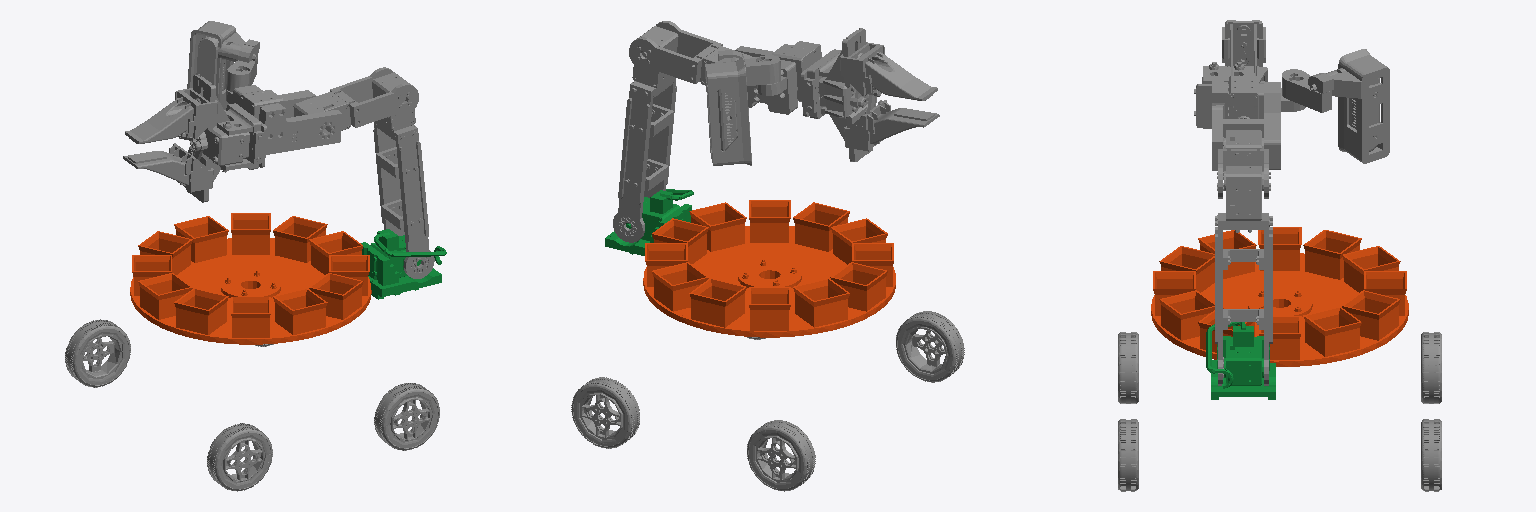
URDF robot description (v307_full_robot):
<?xml version="1.0"?>
<!-- v307_full_robot: make_urdf_usd.py가 생성(V303 통합본 + 상단 D435 실측 43.6도). SI 단위. -->
<robot name="v307_full_robot">
  <link name="base_link">
    <inertial><origin xyz="0.0251904968 -0.00410348064 0.149603686" rpy="0 0 0"/><mass value="5.000111"/><inertia ixx="0.143453075" ixy="0.00313637572" ixz="0.0329086051" iyy="0.151701509" iyz="-0.00305281255" izz="0.0824836837"/></inertial>
    <visual><origin xyz="0.048 0 0" rpy="0 0 0"/><geometry><mesh filename="package://craft_description/meshes/visual/base_link.stl"/></geometry><material name="base_link_mat"><color rgba="0.93 0.36 0.1 1"/></material></visual>
    <collision><origin xyz="0.048 0 0" rpy="0 0 0"/><geometry><mesh filename="package://craft_description/meshes/collision/base_link.stl"/></geometry></collision>
  </link>
  <link name="slide_link">
    <inertial><origin xyz="0.0146031475 -0.000185518595 0.0107615661" rpy="0 0 0"/><mass value="0.180426"/><inertia ixx="6.46258835e-05" ixy="6.54442244e-07" ixz="-1.22292275e-05" iyy="8.8552421e-05" iyz="1.25846815e-06" izz="8.39891282e-05"/></inertial>
    <visual><origin xyz="0 0 0" rpy="0 0 0"/><geometry><mesh filename="package://craft_description/meshes/visual/slide_link.stl"/></geometry><material name="slide_link_mat"><color rgba="0.12 0.6 0.29 1"/></material></visual>
    <collision><origin xyz="0 0 0" rpy="0 0 0"/><geometry><mesh filename="package://craft_description/meshes/collision/slide_link.stl"/></geometry></collision>
  </link>
  <link name="shoulder_link">
    <inertial><origin xyz="-0.0125847644 0.000198803496 0.127119103" rpy="0 0 0"/><mass value="0.167086"/><inertia ixx="0.000669106483" ixy="1.46537097e-07" ixz="5.66082798e-05" iyy="0.000641514288" iyz="-1.63674285e-06" izz="5.82983103e-05"/></inertial>
    <visual><origin xyz="0 0 0" rpy="0 0 0"/><geometry><mesh filename="package://craft_description/meshes/visual/shoulder_link.stl"/></geometry><material name="shoulder_link_mat"><color rgba="0.6 0.6 0.6 1"/></material></visual>
    <collision><origin xyz="0 0 0" rpy="0 0 0"/><geometry><mesh filename="package://craft_description/meshes/collision/shoulder_link.stl"/></geometry></collision>
  </link>
  <link name="elbow_link">
    <inertial><origin xyz="-0.0679996982 0.000334165463 -0.00655327443" rpy="0 0 0"/><mass value="0.115727"/><inertia ixx="2.82352702e-05" ixy="5.89950824e-07" ixz="-9.11036333e-06" iyy="0.000109705632" iyz="5.67843296e-08" izz="0.00012188935"/></inertial>
    <visual><origin xyz="0 0 0" rpy="0 0 0"/><geometry><mesh filename="package://craft_description/meshes/visual/elbow_link.stl"/></geometry><material name="elbow_link_mat"><color rgba="0.6 0.6 0.6 1"/></material></visual>
    <collision><origin xyz="0 0 0" rpy="0 0 0"/><geometry><mesh filename="package://craft_description/meshes/collision/elbow_link.stl"/></geometry></collision>
  </link>
  <link name="wrist_pitch_link">
    <inertial><origin xyz="-0.0421026816 0.0124840202 0.0125870085" rpy="0 0 0"/><mass value="0.576949"/><inertia ixx="0.00166305051" ixy="0.000135229321" ixz="7.33035572e-05" iyy="0.00054415166" iyz="-0.000189181957" izz="0.00178513972"/></inertial>
    <visual><origin xyz="0 0 0" rpy="0 0 0"/><geometry><mesh filename="package://craft_description/meshes/visual/wrist_pitch_link.stl"/></geometry><material name="wrist_pitch_link_mat"><color rgba="0.6 0.6 0.6 1"/></material></visual>
    <collision><origin xyz="0 0 0" rpy="0 0 0"/><geometry><mesh filename="package://craft_description/meshes/collision/wrist_pitch_link.stl"/></geometry></collision>
  </link>
  <link name="tool_roll_link">
    <inertial><origin xyz="-0.0644476696 -0.0106381516 0.00474600638" rpy="0 0 0"/><mass value="0.203227"/><inertia ixx="0.000169958898" ixy="3.53166992e-06" ixz="1.89791404e-06" iyy="0.000159822111" iyz="-4.14789304e-07" izz="0.000101349104"/></inertial>
    <visual><origin xyz="0 0 0" rpy="0 0 0"/><geometry><mesh filename="package://craft_description/meshes/visual/tool_roll_link.stl"/></geometry><material name="tool_roll_link_mat"><color rgba="0.6 0.6 0.6 1"/></material></visual>
    <collision><origin xyz="0 0 0" rpy="0 0 0"/><geometry><mesh filename="package://craft_description/meshes/collision/tool_roll_link.stl"/></geometry></collision>
  </link>
  <link name="jaw_upper_link">
    <inertial><origin xyz="-0.115253311 -3.77376599e-05 -0.0125598135" rpy="0 0 0"/><mass value="0.038870"/><inertia ixx="1.47173093e-05" ixy="-2.14790085e-08" ixz="9.70386323e-07" iyy="2.69811561e-05" iyz="-1.81280746e-07" izz="2.12177174e-05"/></inertial>
    <visual><origin xyz="0 0 0" rpy="0 0 0"/><geometry><mesh filename="package://craft_description/meshes/visual/jaw_upper_link.stl"/></geometry><material name="jaw_upper_link_mat"><color rgba="0.6 0.6 0.6 1"/></material></visual>
    <collision><origin xyz="0 0 0" rpy="0 0 0"/><geometry><mesh filename="package://craft_description/meshes/collision/jaw_upper_link.stl"/></geometry></collision>
  </link>
  <link name="jaw_lower_link">
    <inertial><origin xyz="-0.116983844 9.59371818e-06 0.0337016317" rpy="0 0 0"/><mass value="0.031314"/><inertia ixx="6.12112637e-06" ixy="-2.92559448e-08" ixz="-3.73016343e-06" iyy="1.5746713e-05" iyz="4.24152559e-09" izz="1.70915264e-05"/></inertial>
    <visual><origin xyz="0 0 0" rpy="0 0 0"/><geometry><mesh filename="package://craft_description/meshes/visual/jaw_lower_link.stl"/></geometry><material name="jaw_lower_link_mat"><color rgba="0.6 0.6 0.6 1"/></material></visual>
    <collision><origin xyz="0 0 0" rpy="0 0 0"/><geometry><mesh filename="package://craft_description/meshes/collision/jaw_lower_link.stl"/></geometry></collision>
  </link>
  <link name="carousel_link">
    <inertial><origin xyz="-8.65118615e-07 4.18767866e-08 0.0180728442" rpy="0 0 0"/><mass value="0.462981"/><inertia ixx="0.00191875563" ixy="1.1861596e-08" ixz="-1.52921136e-09" iyy="0.00191874242" iyz="3.46095429e-10" izz="0.00375982099"/></inertial>
    <visual><origin xyz="0 0 0" rpy="0 0 0"/><geometry><mesh filename="package://craft_description/meshes/visual/carousel_link.stl"/></geometry><material name="carousel_link_mat"><color rgba="0.93 0.36 0.1 1"/></material></visual>
    <collision><origin xyz="0 0 0" rpy="0 0 0"/><geometry><mesh filename="package://craft_description/meshes/collision/carousel_link.stl"/></geometry></collision>
  </link>
  <link name="front_left_wheel_link">
    <inertial><origin xyz="-8.51716159e-07 0.000573335072 1.61791874e-07" rpy="0 0 0"/><mass value="0.034646"/><inertia ixx="1.39365668e-05" ixy="5.22891579e-10" ixz="-3.01227733e-09" iyy="2.5863253e-05" iyz="6.30380469e-09" izz="1.39378743e-05"/></inertial>
    <visual><origin xyz="0 0 0" rpy="0 0 0"/><geometry><mesh filename="package://craft_description/meshes/visual/front_left_wheel_link.stl"/></geometry><material name="front_left_wheel_link_mat"><color rgba="0.6 0.6 0.6 1"/></material></visual>
    <collision><origin xyz="0 0 0" rpy="0 0 0"/><geometry><mesh filename="package://craft_description/meshes/collision/front_left_wheel_link.stl"/></geometry></collision>
  </link>
  <link name="front_right_wheel_link">
    <inertial><origin xyz="1.51977778e-06 -0.000573954923 -3.17608958e-06" rpy="0 0 0"/><mass value="0.034646"/><inertia ixx="1.39406688e-05" ixy="-6.62953286e-09" ixz="2.61855567e-10" iyy="2.58633473e-05" iyz="-3.3966145e-10" izz="1.39338108e-05"/></inertial>
    <visual><origin xyz="0 0 0" rpy="0 0 0"/><geometry><mesh filename="package://craft_description/meshes/visual/front_right_wheel_link.stl"/></geometry><material name="front_right_wheel_link_mat"><color rgba="0.6 0.6 0.6 1"/></material></visual>
    <collision><origin xyz="0 0 0" rpy="0 0 0"/><geometry><mesh filename="package://craft_description/meshes/collision/front_right_wheel_link.stl"/></geometry></collision>
  </link>
  <link name="rear_left_wheel_link">
    <inertial><origin xyz="8.62417446e-07 0.000573321985 -2.74013001e-07" rpy="0 0 0"/><mass value="0.034646"/><inertia ixx="1.39366064e-05" ixy="-5.20314191e-10" ixz="-2.96081123e-09" iyy="2.586332e-05" iyz="-6.30133135e-09" izz="1.39378951e-05"/></inertial>
    <visual><origin xyz="0 0 0" rpy="0 0 0"/><geometry><mesh filename="package://craft_description/meshes/visual/rear_left_wheel_link.stl"/></geometry><material name="rear_left_wheel_link_mat"><color rgba="0.6 0.6 0.6 1"/></material></visual>
    <collision><origin xyz="0 0 0" rpy="0 0 0"/><geometry><mesh filename="package://craft_description/meshes/collision/rear_left_wheel_link.stl"/></geometry></collision>
  </link>
  <link name="rear_right_wheel_link">
    <inertial><origin xyz="-1.54544912e-06 -0.000573947305 3.19833355e-06" rpy="0 0 0"/><mass value="0.034646"/><inertia ixx="1.39406539e-05" ixy="6.62647216e-09" ixz="2.44942251e-10" iyy="2.58633623e-05" iyz="3.42700833e-10" izz="1.3933837e-05"/></inertial>
    <visual><origin xyz="0 0 0" rpy="0 0 0"/><geometry><mesh filename="package://craft_description/meshes/visual/rear_right_wheel_link.stl"/></geometry><material name="rear_right_wheel_link_mat"><color rgba="0.6 0.6 0.6 1"/></material></visual>
    <collision><origin xyz="0 0 0" rpy="0 0 0"/><geometry><mesh filename="package://craft_description/meshes/collision/rear_right_wheel_link.stl"/></geometry></collision>
  </link>
  <joint name="lm_slide" type="prismatic"><parent link="base_link"/><child link="slide_link"/><origin xyz="0.1755 -0.0345 0.10195" rpy="0 0 0"/><axis xyz="0 1 0"/>
    <limit lower="-0.0507" upper="0.1041" effort="60.0" velocity="0.0513"/>
    <dynamics damping="0.01" friction="2.0"/></joint>
  <joint name="shoulder" type="revolute"><parent link="slide_link"/><child link="shoulder_link"/><origin xyz="0.035 0 0.01975" rpy="0 0 0"/><axis xyz="0 1 0"/>
    <limit lower="-0.314159265" upper="0.785398163" effort="3.0" velocity="8.06"/>
    <dynamics damping="0.01" friction="0.05"/></joint>
  <joint name="elbow" type="revolute"><parent link="shoulder_link"/><child link="elbow_link"/><origin xyz="-0.0180345 0 0.187133" rpy="0 0 0"/><axis xyz="0 1 0"/>
    <limit lower="-0.907571211" upper="3.12413936" effort="3.0" velocity="8.06"/>
    <dynamics damping="0.01" friction="0.05"/></joint>
  <joint name="wrist_pitch" type="revolute"><parent link="elbow_link"/><child link="wrist_pitch_link"/><origin xyz="-0.09456188 0 -0.00911318" rpy="0 0 0"/><axis xyz="0 1 0"/>
    <limit lower="-2.72271363" upper="2.18166156" effort="3.0" velocity="8.06"/>
    <dynamics damping="0.01" friction="0.05"/></joint>
  <joint name="tool_roll" type="revolute"><parent link="wrist_pitch_link"/><child link="tool_roll_link"/><origin xyz="-0.04489128 0 0.00312652" rpy="0 0 0"/><axis xyz="-0.997583329 -0 0.0694802318"/>
    <limit lower="-3.12413936" upper="3.12413936" effort="3.0" velocity="8.06"/>
    <dynamics damping="0.01" friction="0.05"/></joint>
  <joint name="jaw_upper" type="prismatic"><parent link="tool_roll_link"/><child link="jaw_upper_link"/><origin xyz="0 0 0" rpy="0 0 0"/><axis xyz="-0.0694790287 -0 -0.997583412"/>
    <limit lower="-0.01" upper="0.01268" effort="20.0" velocity="0.08"/>
    <dynamics damping="0.01" friction="0.5"/></joint>
  <joint name="jaw_lower" type="prismatic"><parent link="tool_roll_link"/><child link="jaw_lower_link"/><origin xyz="0 0 0" rpy="0 0 0"/><axis xyz="0.0694790287 0 0.997583412"/>
    <limit lower="-0.01" upper="0.01268" effort="20.0" velocity="0.08"/>
    <dynamics damping="0.01" friction="0.5"/></joint>
  <joint name="carousel" type="continuous"><parent link="base_link"/><child link="carousel_link"/><origin xyz="0.045955 0 0.091554" rpy="0 0 0"/><axis xyz="0 0 1"/>
    <limit effort="3.0" velocity="3.0"/>
    <dynamics damping="0.01" friction="0.05"/></joint>
  <joint name="front_left_wheel" type="continuous"><parent link="base_link"/><child link="front_left_wheel_link"/><origin xyz="0.146 0.144 0" rpy="0 0 0"/><axis xyz="0 1 0"/>
    <limit effort="3.0" velocity="8.06"/>
    <dynamics damping="0.01" friction="0.02"/></joint>
  <joint name="front_right_wheel" type="continuous"><parent link="base_link"/><child link="front_right_wheel_link"/><origin xyz="0.146 -0.144 0" rpy="0 0 0"/><axis xyz="0 1 0"/>
    <limit effort="3.0" velocity="8.06"/>
    <dynamics damping="0.01" friction="0.02"/></joint>
  <joint name="rear_left_wheel" type="continuous"><parent link="base_link"/><child link="rear_left_wheel_link"/><origin xyz="-0.05 0.144 0" rpy="0 0 0"/><axis xyz="0 1 0"/>
    <limit effort="3.0" velocity="8.06"/>
    <dynamics damping="0.01" friction="0.02"/></joint>
  <joint name="rear_right_wheel" type="continuous"><parent link="base_link"/><child link="rear_right_wheel_link"/><origin xyz="-0.05 -0.144 0" rpy="0 0 0"/><axis xyz="0 1 0"/>
    <limit effort="3.0" velocity="8.06"/>
    <dynamics damping="0.01" friction="0.02"/></joint>
  <link name="base_footprint"/>
  <joint name="base_footprint_joint" type="fixed"><parent link="base_link"/><child link="base_footprint"/><origin xyz="0 0 -0.034346" rpy="0 0 0"/></joint>
  <link name="front_laser"/>
  <joint name="front_laser_joint" type="fixed"><parent link="base_link"/><child link="front_laser"/><origin xyz="0.23867 2e-05 0.0567" rpy="0 0 0"/></joint>
  <link name="rear_laser"/>
  <joint name="rear_laser_joint" type="fixed"><parent link="base_link"/><child link="rear_laser"/><origin xyz="-0.06767 0 0.0507" rpy="0 -0 3.14159265"/></joint>
  <link name="imu_link"/>
  <joint name="imu_link_joint" type="fixed"><parent link="base_link"/><child link="imu_link"/><origin xyz="0.0125 0.0895 0.03512" rpy="0 0 0"/></joint>
  <link name="camera_top_color_link"/>
  <joint name="camera_top_color_link_joint" type="fixed"><parent link="base_link"/><child link="camera_top_color_link"/><origin xyz="-0.0141011188 -0.0325 0.592847012" rpy="-0 0.760950852 0"/></joint>
  <link name="camera_top_color_optical_frame"/>
  <joint name="camera_top_color_optical_frame_joint" type="fixed"><parent link="base_link"/><child link="camera_top_color_optical_frame"/><origin xyz="-0.0141011188 -0.0325 0.592847012" rpy="-2.33174718 -0 -1.57079633"/></joint>
  <link name="camera_top_depth_link"/>
  <joint name="camera_top_depth_link_joint" type="fixed"><parent link="base_link"/><child link="camera_top_depth_link"/><origin xyz="-0.0140531531 0.0325 0.592861129" rpy="-0 0.760950852 0"/></joint>
  <link name="camera_top_depth_optical_frame"/>
  <joint name="camera_top_depth_optical_frame_joint" type="fixed"><parent link="base_link"/><child link="camera_top_depth_optical_frame"/><origin xyz="-0.0140531531 0.0325 0.592861129" rpy="-2.33174718 -0 -1.57079633"/></joint>
  <link name="camera_wrist_color_link"/>
  <joint name="camera_wrist_color_link_joint" type="fixed"><parent link="wrist_pitch_link"/><child link="camera_wrist_color_link"/><origin xyz="-0.0561524751 0.106 -0.0146339865" rpy="1.5413706 -0.063011052 -2.70433289"/></joint>
  <link name="camera_wrist_color_optical_frame"/>
  <joint name="camera_wrist_color_optical_frame_joint" type="fixed"><parent link="wrist_pitch_link"/><child link="camera_wrist_color_optical_frame"/><origin xyz="-0.0561524751 0.106 -0.0146339865" rpy="-0.436332312 1.5012613 -3.14159265"/></joint>
  <link name="camera_wrist_depth_link"/>
  <joint name="camera_wrist_depth_link_joint" type="fixed"><parent link="wrist_pitch_link"/><child link="camera_wrist_depth_link"/><origin xyz="-0.0516363397 0.106 0.0502089354" rpy="1.5413706 -0.063011052 -2.70433289"/></joint>
  <link name="camera_wrist_depth_optical_frame"/>
  <joint name="camera_wrist_depth_optical_frame_joint" type="fixed"><parent link="wrist_pitch_link"/><child link="camera_wrist_depth_optical_frame"/><origin xyz="-0.0516363397 0.106 0.0502089354" rpy="-0.436332312 1.5012613 -3.14159265"/></joint>
  <link name="tcp"/>
  <joint name="tcp_joint" type="fixed"><parent link="tool_roll_link"/><child link="tcp"/><origin xyz="-0.152233146 0 0.0105827774" rpy="0 -0.0695362563 -3.14159265"/></joint>
</robot>

--- Facts derived from the render (not from the file) ---
The picture shows the robot from 3 angles, left to right: view 1: azimuth 30°, elevation 25°; view 2: azimuth 150°, elevation 25°; view 3: azimuth 270°, elevation 25°; orthographic projection.
Model v307_full_robot with 26 links and 25 joints (4 revolute, 5 continuous, 3 prismatic, 13 fixed), rooted at base_link, posed all joints at 0.
Visible links, largest first — view 1: carousel_link, wrist_pitch_link, shoulder_link, tool_roll_link, elbow_link, rear_right_wheel_link, rear_left_wheel_link, front_right_wheel_link, slide_link, jaw_lower_link, jaw_upper_link; view 2: carousel_link, wrist_pitch_link, shoulder_link, tool_roll_link, front_left_wheel_link, rear_right_wheel_link, rear_left_wheel_link, elbow_link, jaw_lower_link, jaw_upper_link, slide_link; view 3: carousel_link, wrist_pitch_link, shoulder_link, slide_link, tool_roll_link, elbow_link, front_left_wheel_link, front_right_wheel_link, rear_left_wheel_link, rear_right_wheel_link, jaw_lower_link.
Boxes of the visible links, x1,y1,x2,y2 form: carousel_link: [130, 213, 371, 344]; wrist_pitch_link: [187, 21, 342, 154]; shoulder_link: [372, 72, 434, 278]; tool_roll_link: [186, 74, 266, 202]; elbow_link: [293, 67, 418, 130]; rear_right_wheel_link: [207, 423, 272, 491]; rear_left_wheel_link: [65, 319, 130, 387]; front_right_wheel_link: [374, 383, 439, 450]; slide_link: [361, 229, 446, 299]; jaw_lower_link: [125, 88, 217, 143]; jaw_upper_link: [123, 100, 213, 191]; carousel_link: [643, 200, 895, 337]; wrist_pitch_link: [705, 41, 821, 165]; shoulder_link: [613, 26, 678, 242]; tool_roll_link: [800, 28, 872, 161]; front_left_wheel_link: [571, 377, 639, 448]; rear_right_wheel_link: [896, 311, 964, 382]; rear_left_wheel_link: [747, 420, 815, 491]; elbow_link: [629, 21, 754, 85]; jaw_lower_link: [840, 42, 937, 100]; jaw_upper_link: [844, 55, 939, 151]; slide_link: [605, 189, 693, 255]; carousel_link: [1151, 227, 1408, 366]; wrist_pitch_link: [1212, 49, 1389, 170]; shoulder_link: [1215, 166, 1272, 385]; slide_link: [1206, 322, 1275, 399]; tool_roll_link: [1194, 20, 1267, 128]; elbow_link: [1217, 130, 1270, 198]; front_left_wheel_link: [1421, 419, 1441, 491]; front_right_wheel_link: [1118, 419, 1138, 491]; rear_left_wheel_link: [1421, 332, 1441, 403]; rear_right_wheel_link: [1118, 332, 1138, 403]; jaw_lower_link: [1222, 27, 1265, 62].
Bounding box of the posed robot: 0.3541 × 0.308 × 0.4075 m (x, y, z).
12 mesh visuals loaded from 13 distinct referenced files (12 binary STL); not drawn: 1 (reference not matched to a file when rendering).
